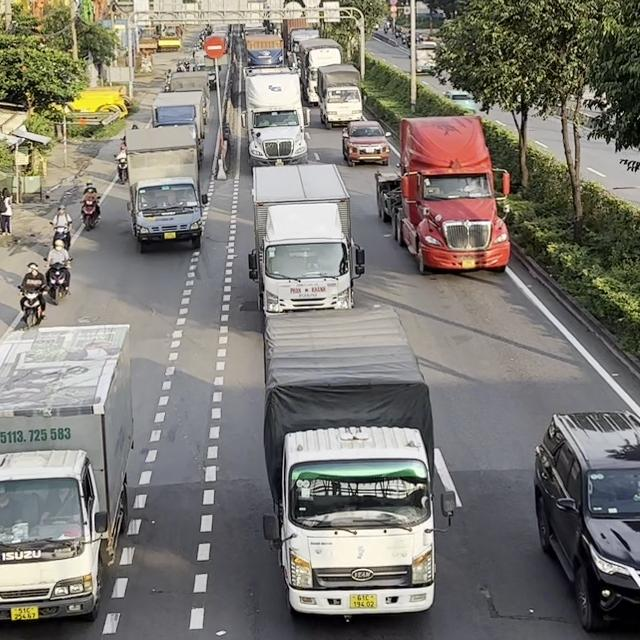car: (532, 409, 639, 632), (341, 120, 391, 166)
motorcycle: (43, 257, 73, 304), (16, 283, 47, 328), (80, 197, 101, 231), (50, 222, 71, 250), (113, 152, 128, 184)
truck: (261, 304, 462, 621), (0, 322, 134, 623), (374, 114, 512, 275), (247, 162, 365, 314), (124, 124, 208, 253), (242, 65, 310, 169), (149, 88, 209, 166), (316, 62, 366, 129), (295, 37, 343, 106)
